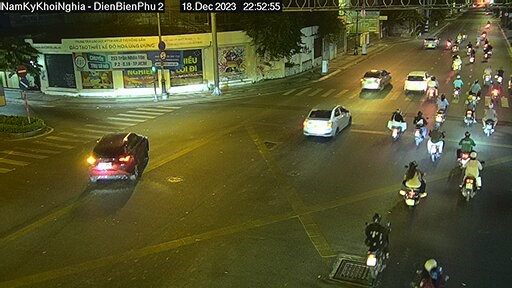car: (88, 129, 152, 187), (301, 100, 355, 141), (360, 66, 394, 92)
motorbike: (362, 215, 388, 280), (401, 161, 428, 206), (459, 156, 484, 202), (387, 107, 414, 145), (403, 63, 431, 96), (430, 127, 448, 164), (433, 92, 449, 122), (415, 116, 428, 149), (451, 76, 464, 97)
